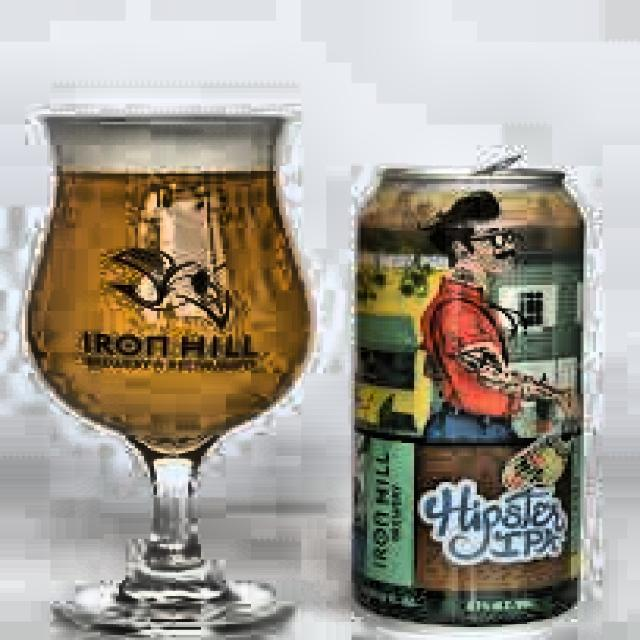can: (344, 145, 587, 635)
